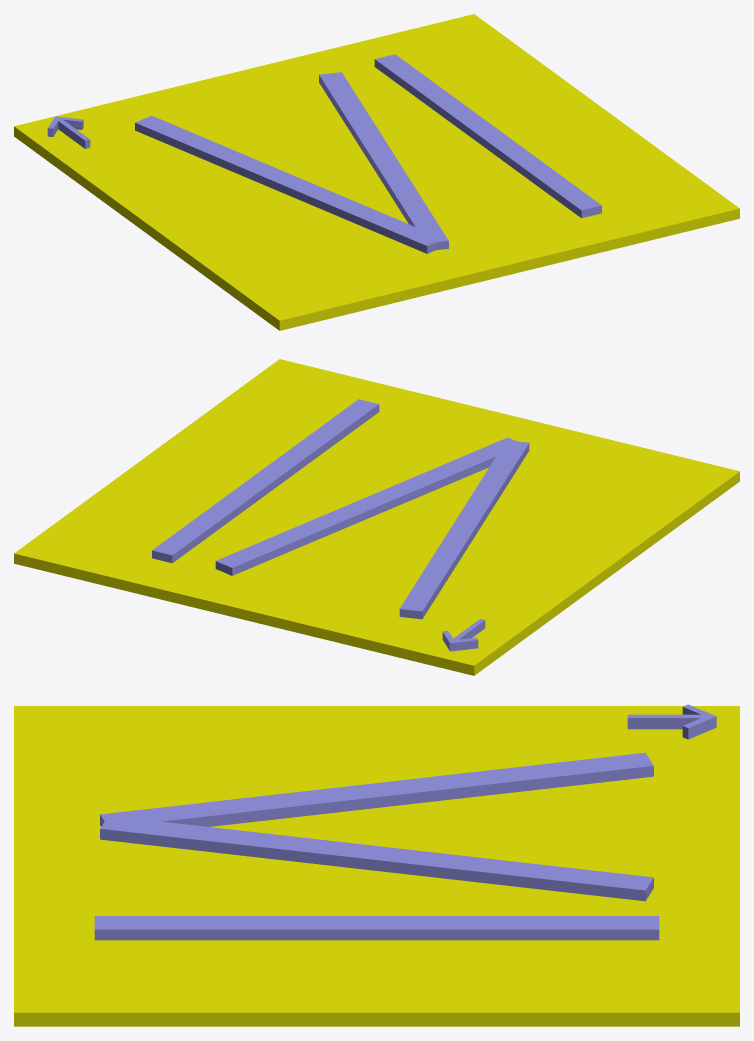
Rendered from mark_6.fbx.
3 views of the same model, one above another, from view 1: azimuth 30°, elevation 25°; view 2: azimuth 150°, elevation 25°; view 3: azimuth 270°, elevation 25° (orthographic). The views are drawn at different scales.
Visible parts, largest first — view 1: pCube3, pCube9, pCube4, pCube8; view 2: pCube3, pCube8, pCube4, pCube9; view 3: pCube3, pCube4, pCube8, pCube9, pCube7.
Part boxes in pixels (box(x1,y1,x2,y2)): pCube3: box(14, 14, 739, 330); pCube9: box(135, 115, 441, 253); pCube4: box(374, 54, 601, 218); pCube8: box(319, 72, 448, 249); pCube3: box(14, 359, 739, 675); pCube8: box(215, 437, 523, 575); pCube4: box(152, 399, 379, 563); pCube9: box(399, 441, 529, 619); pCube3: box(14, 706, 739, 1026); pCube4: box(94, 916, 659, 940); pCube8: box(100, 815, 653, 901); pCube9: box(100, 752, 653, 826); pCube7: box(627, 714, 704, 729).
Size of the model in its own units: 0.9 by 0.0345 by 0.9.
